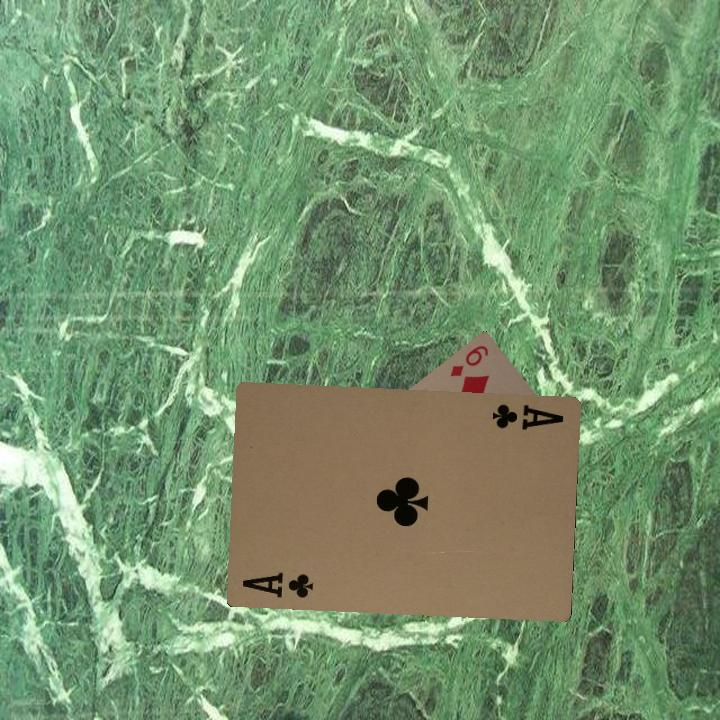6d: (446, 341, 491, 380)
Ac: (487, 400, 567, 434), (238, 568, 316, 601)
